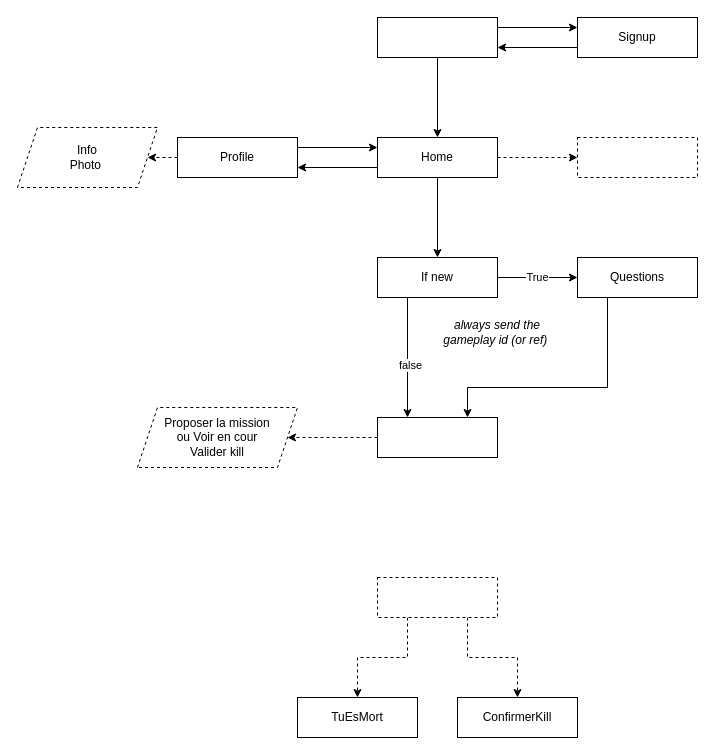
Image size: 715x755. Some labels were removed from this diagram. The shapes that lost their labels are listed below. From the top down, each one's centre as x and y in pixels, then its label:
At (437,37): "Login".
At (637,157): "GamePlayListView".
At (437,437): "Mission".
At (437,597): "Prévoir".
